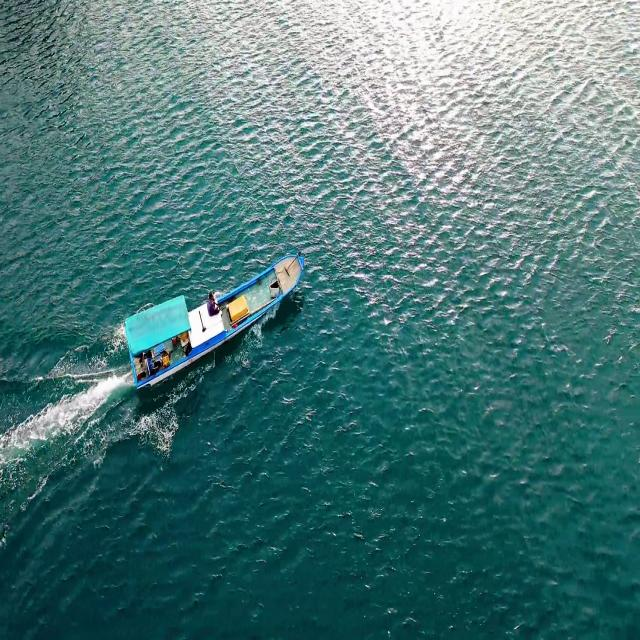ship: (118, 238, 309, 400)
